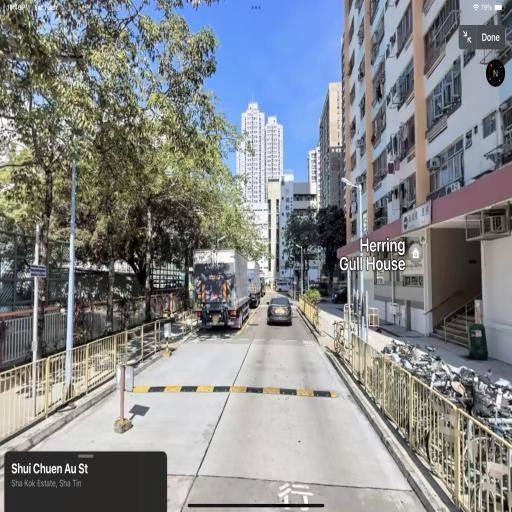Roads: (19, 273, 477, 499)
Trees: (5, 7, 250, 332)
